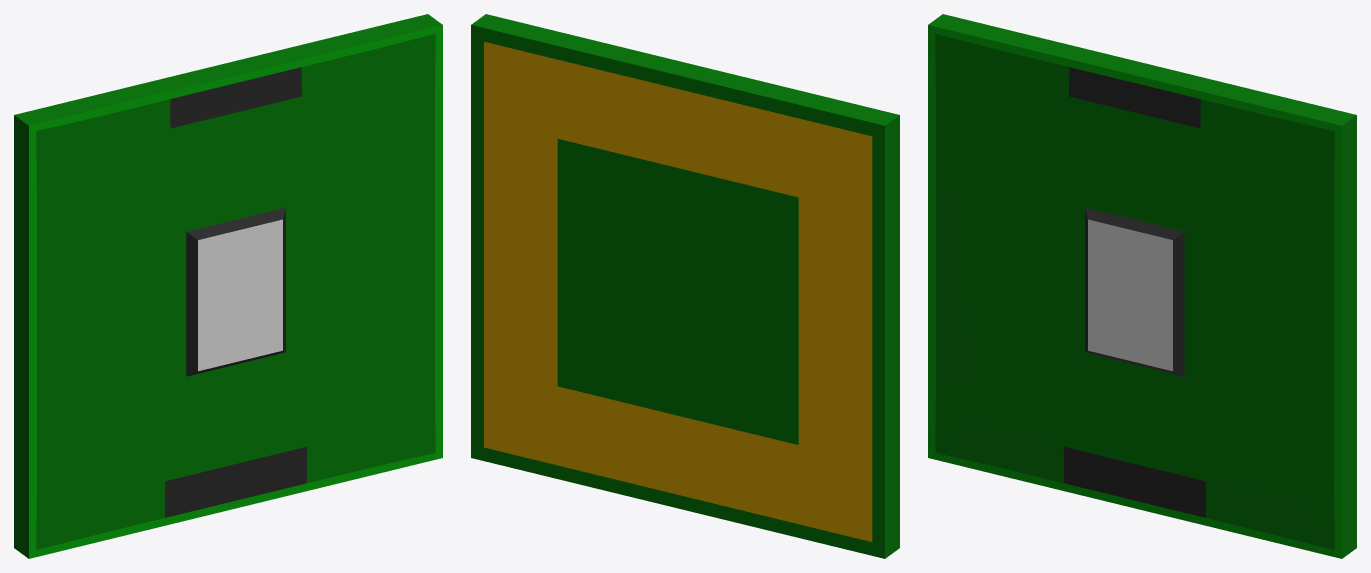
The model's file is s370_1_intel.fbx.
The picture shows the model from 3 angles, left to right: view 1: azimuth 30°, elevation 25°; view 2: azimuth 150°, elevation 25°; view 3: azimuth 330°, elevation 25°; orthographic projection.
Parts seen in each view (by area): view 1: Plane.001; view 2: Plane.001; view 3: Plane.001.
Boxes of the visible parts, left/top/right/bottom form: Plane.001: left=14, top=14, right=442, bottom=558; Plane.001: left=471, top=14, right=899, bottom=558; Plane.001: left=928, top=14, right=1356, bottom=558.
Size of the model in its own units: 34.74 by 34.74 by 2.84.
